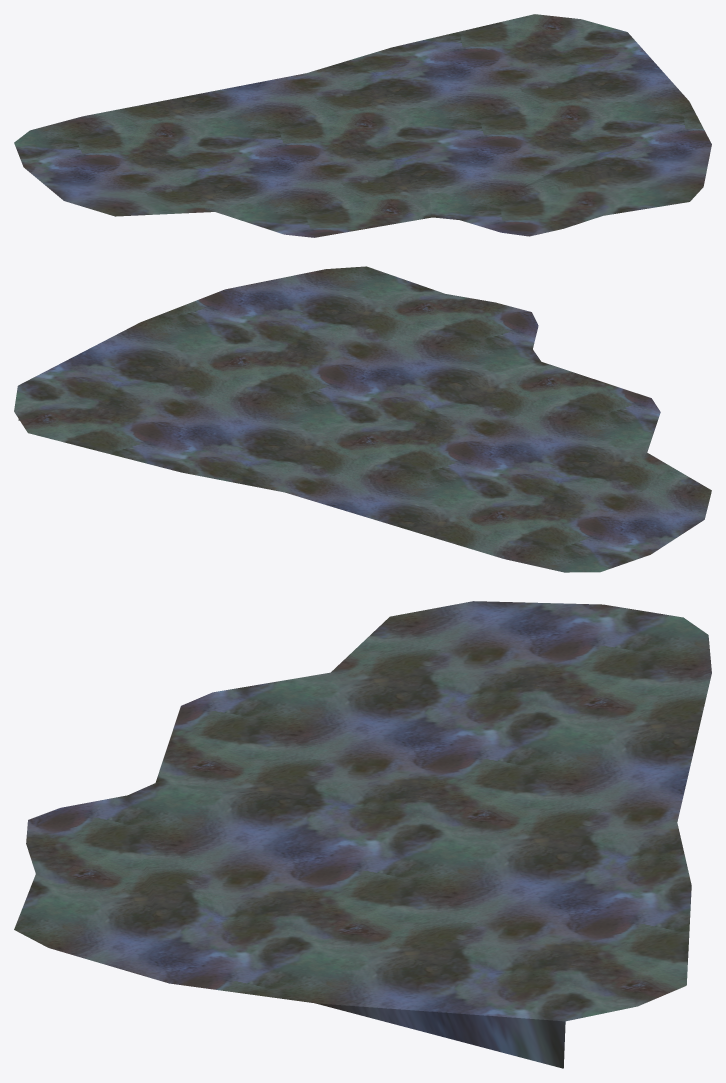
Rendered from ColdZone_1_Top.gltf.
3 renders of one model, top to bottom at view 1: azimuth 30°, elevation 25°; view 2: azimuth 150°, elevation 25°; view 3: azimuth 270°, elevation 25°, orthographic. The views are drawn at different scales.
Visible parts, largest first — view 1: ColdZone_1_Top; view 2: ColdZone_1_Top; view 3: ColdZone_1_Top.
Part boxes in pixels (<box>): ColdZone_1_Top: <box>14,14,711,237</box>; ColdZone_1_Top: <box>14,266,711,572</box>; ColdZone_1_Top: <box>14,601,711,1068</box>.
Size of the model in its own units: 112 by 6.64 by 78.4.
1 material, 1 textured.
